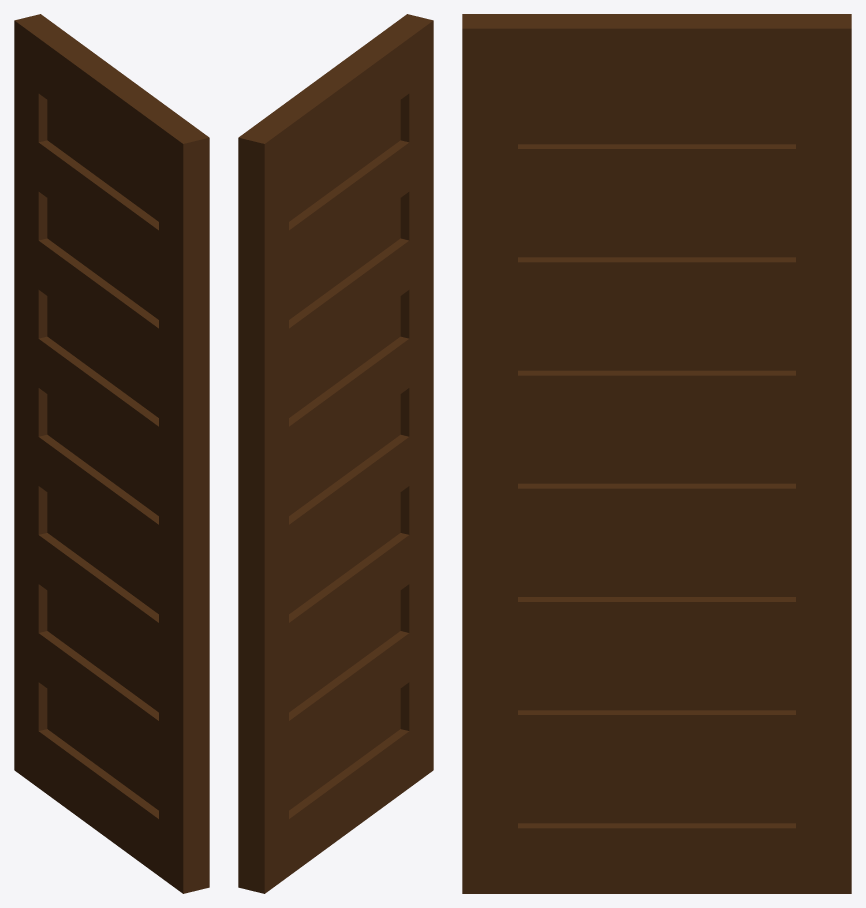
File: WindowShutter.FBX
3 views of the same model, side by side, from view 1: azimuth 30°, elevation 25°; view 2: azimuth 150°, elevation 25°; view 3: azimuth 270°, elevation 25° (orthographic). The views are drawn at different scales.
Parts seen in each view (by area): view 1: WindowShutter; view 2: WindowShutter; view 3: WindowShutter.
Part boxes in pixels (bbox=[...]): WindowShutter: bbox=[14, 14, 209, 893]; WindowShutter: bbox=[238, 14, 433, 893]; WindowShutter: bbox=[462, 14, 851, 893].
Bounding box in the file's own units: 4.5 × 123 × 50.
